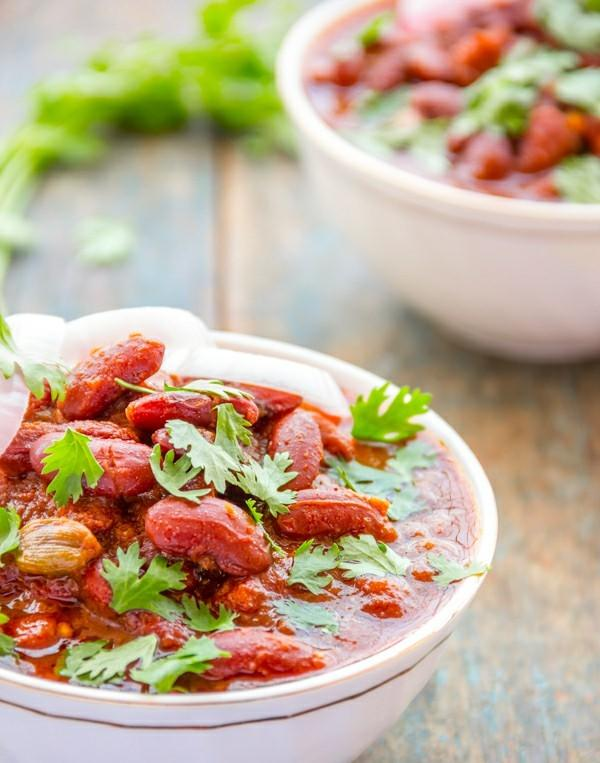RajmaCurry: (0, 331, 477, 697)
